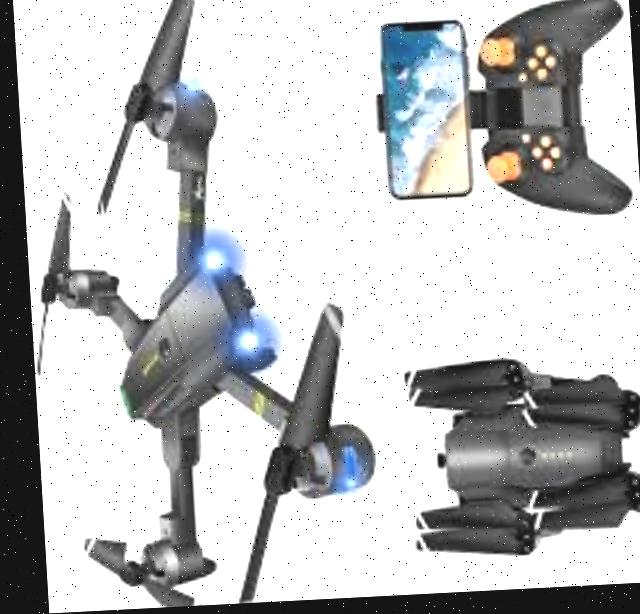drone: (13, 0, 385, 613)
